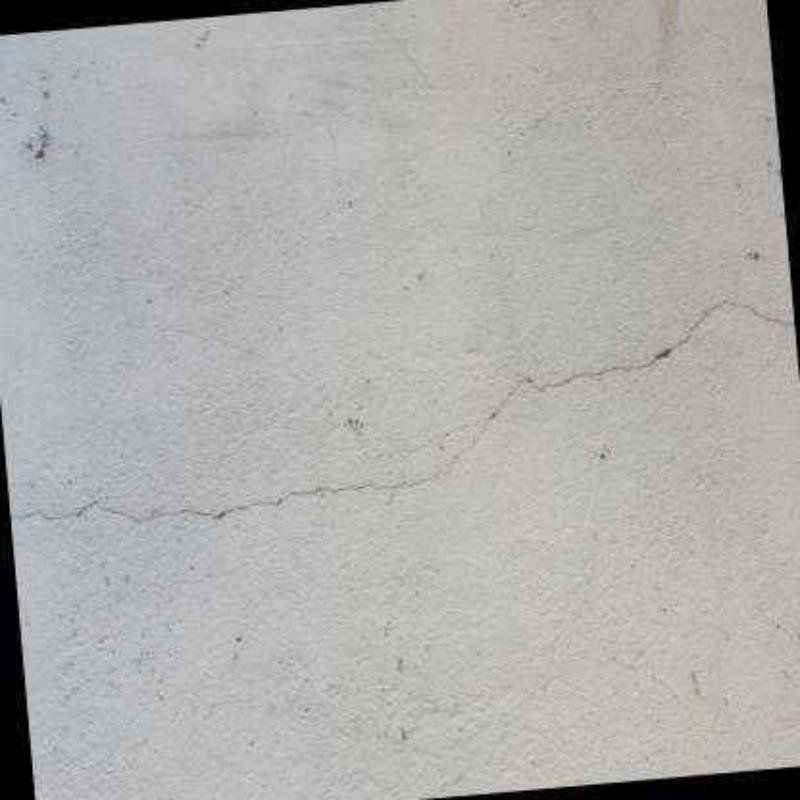crack: (8, 292, 795, 525)
